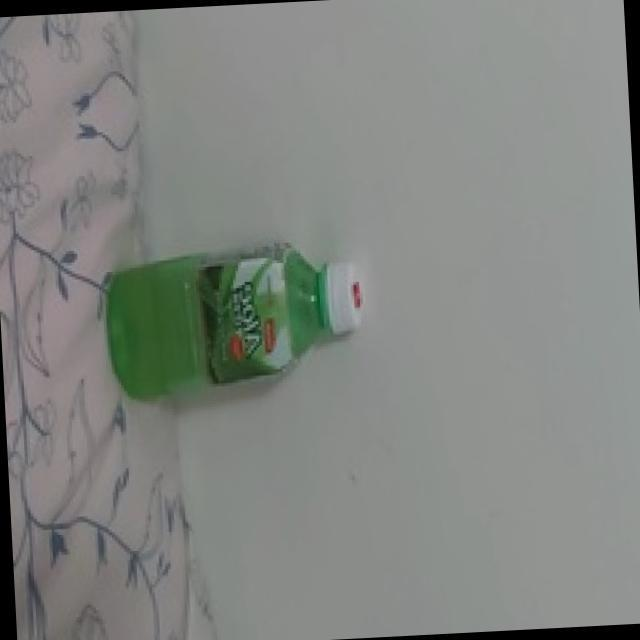good: (88, 235, 392, 420)
